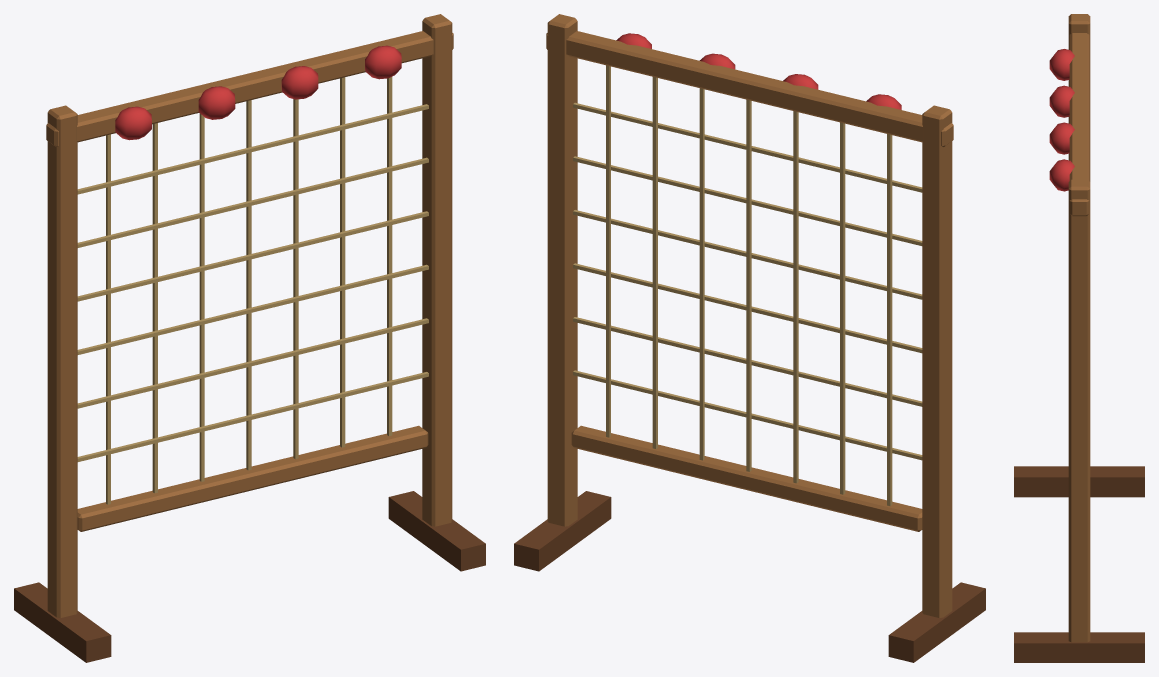
The model's file is fishing-net.glb.
3 renders of one model, left to right at view 1: azimuth 30°, elevation 25°; view 2: azimuth 150°, elevation 25°; view 3: azimuth 270°, elevation 25°, orthographic. The views are drawn at different scales.
Visible parts, largest first — view 1: Net frame, Net cords, Net feet, Net floats; view 2: Net frame, Net cords, Net feet, Net floats; view 3: Net frame, Net feet, Net floats.
Boxes of the visible parts, x1,y1,x2,y2 form: Net frame: [46, 14, 453, 617]; Net cords: [77, 77, 428, 504]; Net feet: [14, 491, 485, 662]; Net floats: [115, 45, 401, 140]; Net frame: [546, 14, 953, 617]; Net cords: [573, 65, 922, 505]; Net feet: [514, 491, 985, 662]; Net floats: [616, 33, 901, 109]; Net frame: [1068, 14, 1090, 642]; Net feet: [1014, 466, 1144, 662]; Net floats: [1049, 49, 1074, 191].
Size of the model in its own units: 0.96 by 1.2 by 0.3.
